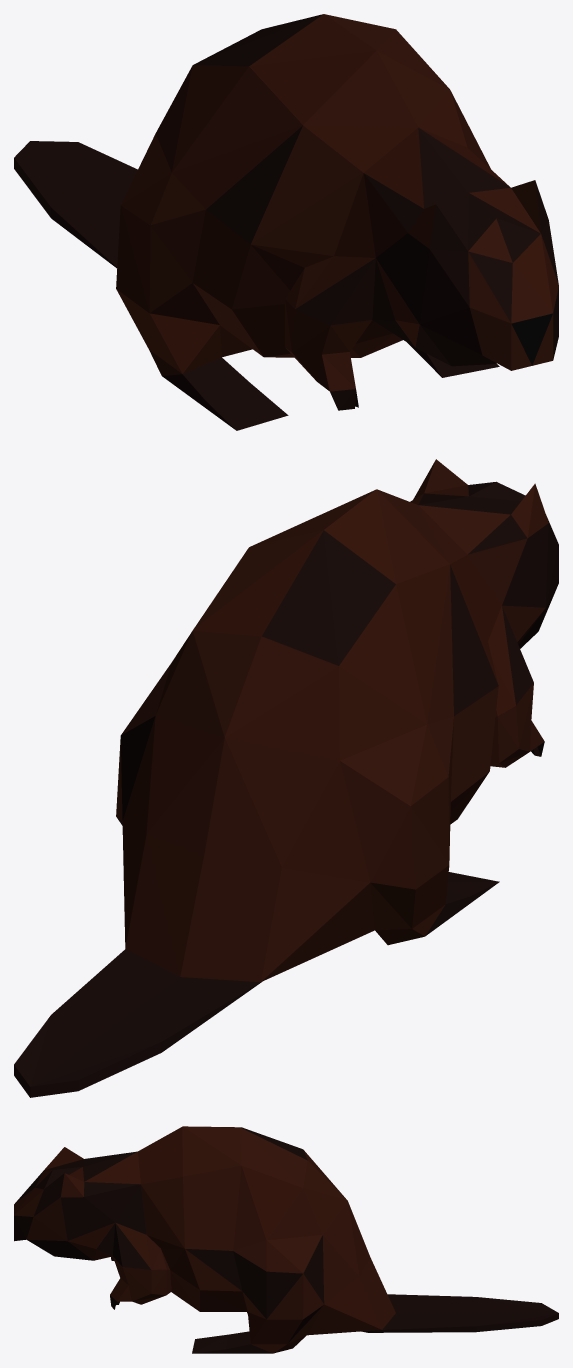
File: Animal_Beaver_M1.fbx
3 renders of one model, top to bottom at view 1: azimuth 30°, elevation 25°; view 2: azimuth 150°, elevation 25°; view 3: azimuth 270°, elevation 25°, orthographic. The views are drawn at different scales.
Parts seen in each view (by area): view 1: Animal_Beaver_M1; view 2: Animal_Beaver_M1; view 3: Animal_Beaver_M1.
Boxes of the visible parts, bbox=[...] form: Animal_Beaver_M1: bbox=[14, 14, 558, 430]; Animal_Beaver_M1: bbox=[14, 459, 558, 1097]; Animal_Beaver_M1: bbox=[14, 1126, 558, 1353].
Bounding box in the file's own units: 48.76 × 55.19 × 141.
